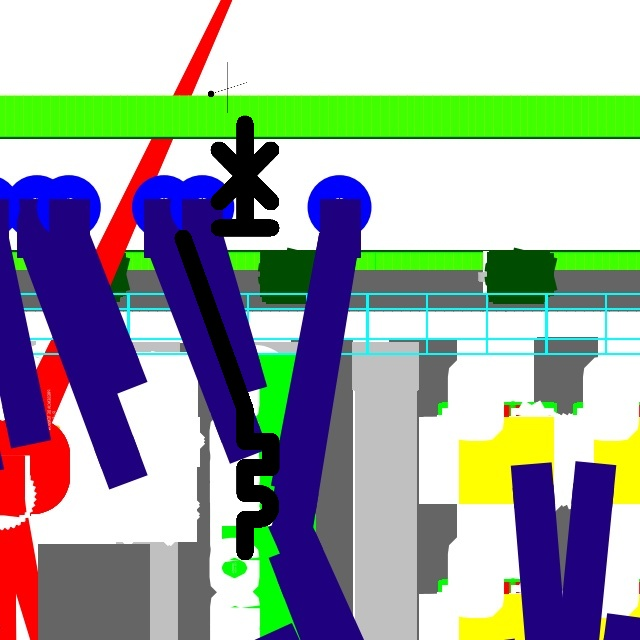interruptor_termomagnetico: (172, 112, 282, 562)
